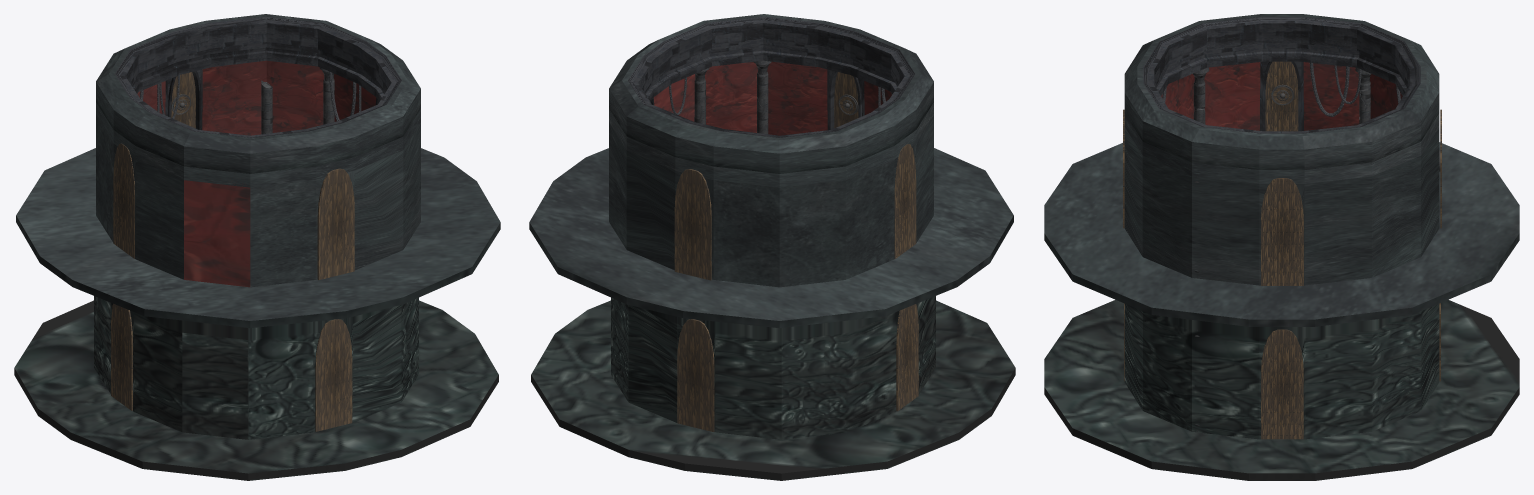
File: M4.BO.blockout.envirornment.fbx
3 views of the same model, side by side, from view 1: azimuth 30°, elevation 25°; view 2: azimuth 150°, elevation 25°; view 3: azimuth 270°, elevation 25° (orthographic).
Visible parts, largest first — view 1: mainWalls, doors.001, doors; view 2: mainWalls, doors.001, doors; view 3: mainWalls, doors.001, doors.
Part boxes in pixels (box(x1,y1,x2,y2)): mainWalls: box(14, 14, 500, 480); doors.001: box(113, 72, 354, 280); doors: box(111, 303, 352, 431); mainWalls: box(529, 14, 1015, 480); doors.001: box(674, 72, 916, 280); doors: box(677, 304, 918, 431); mainWalls: box(1044, 14, 1519, 480); doors.001: box(1123, 61, 1441, 285); doors: box(1124, 303, 1440, 439).
Bounding box in the file's own units: 13461 × 9532 × 13403.
